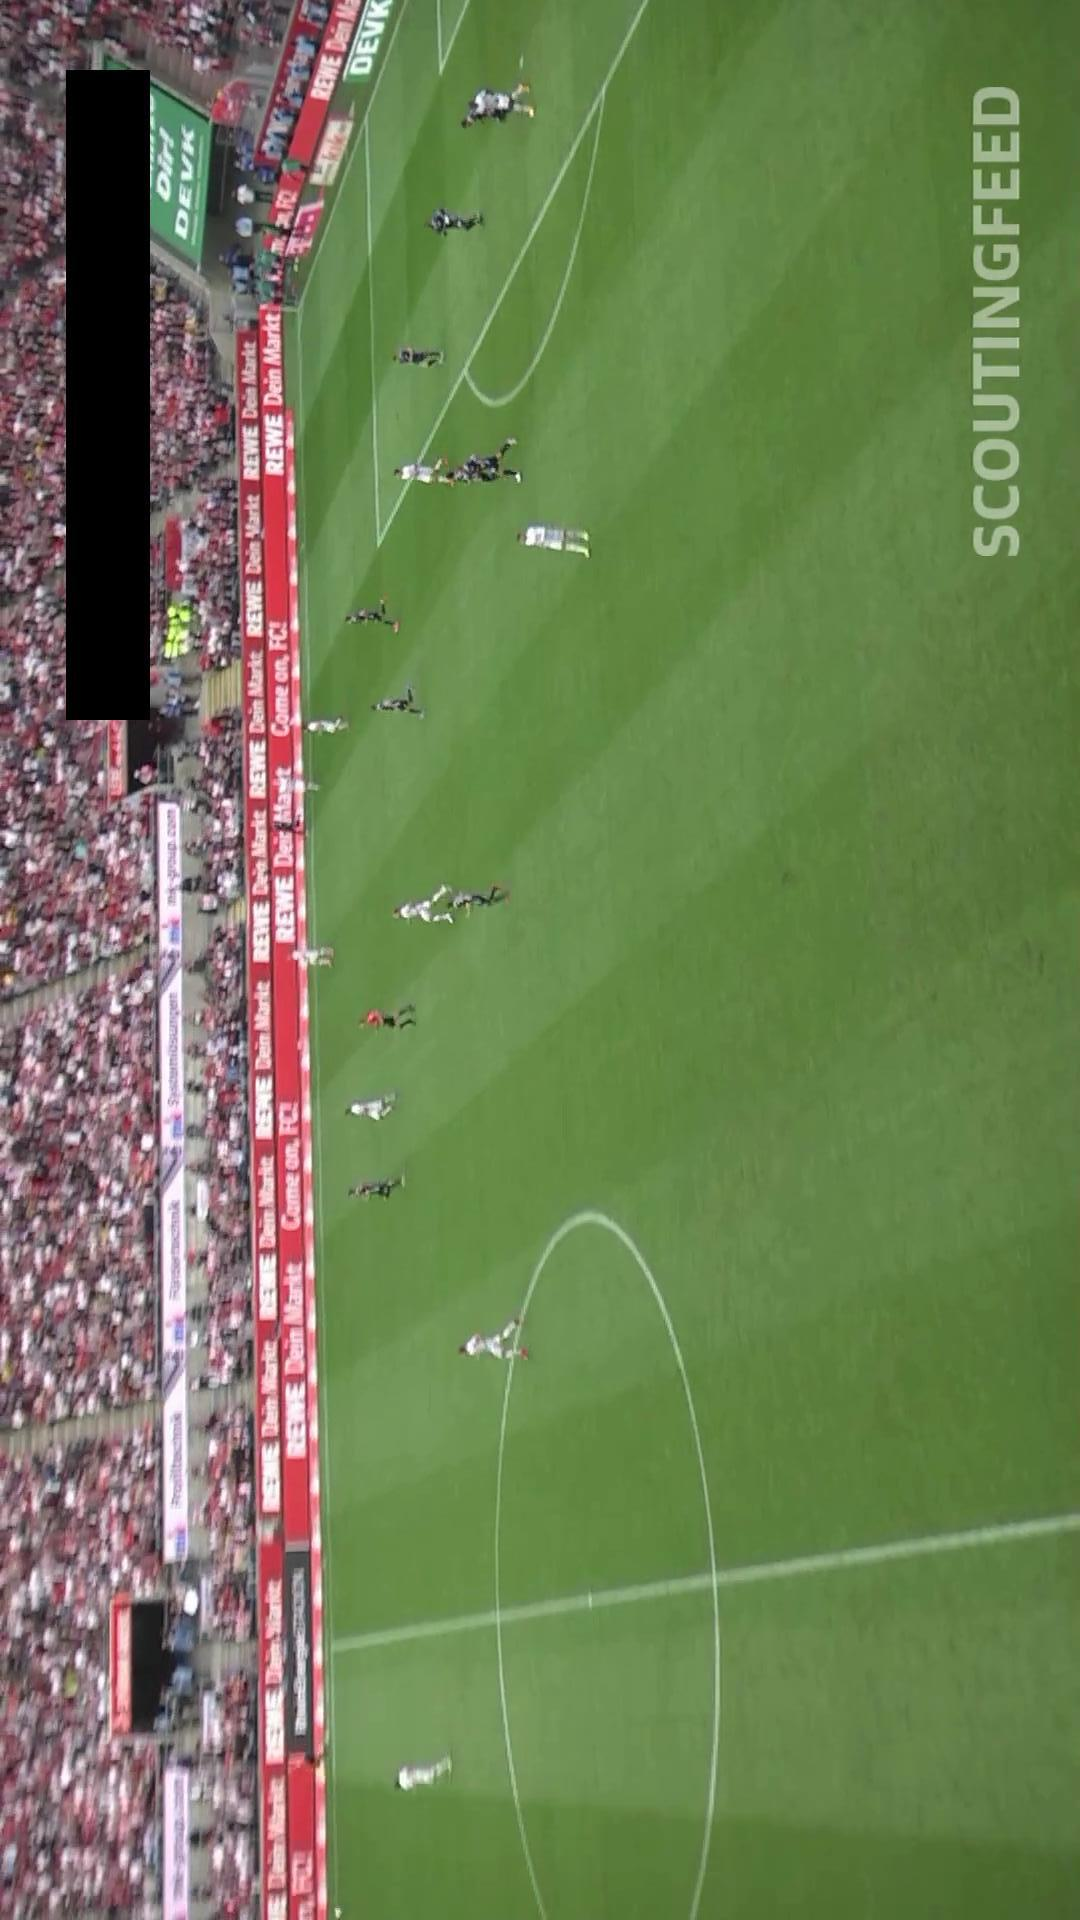ball: (331, 1906, 344, 1918)
player: (457, 1316, 528, 1361), (456, 436, 521, 484), (391, 883, 455, 925), (466, 83, 539, 118), (515, 525, 590, 558), (391, 1753, 451, 1791), (459, 95, 521, 130), (453, 885, 510, 918), (345, 597, 398, 632), (423, 208, 482, 237), (392, 458, 452, 486), (345, 1092, 397, 1121), (346, 1177, 401, 1201), (370, 694, 425, 717), (265, 814, 313, 839), (390, 346, 443, 368), (288, 946, 334, 968), (303, 715, 350, 735), (277, 776, 322, 793)
referee: (357, 1003, 417, 1031), (282, 1746, 335, 1776)
